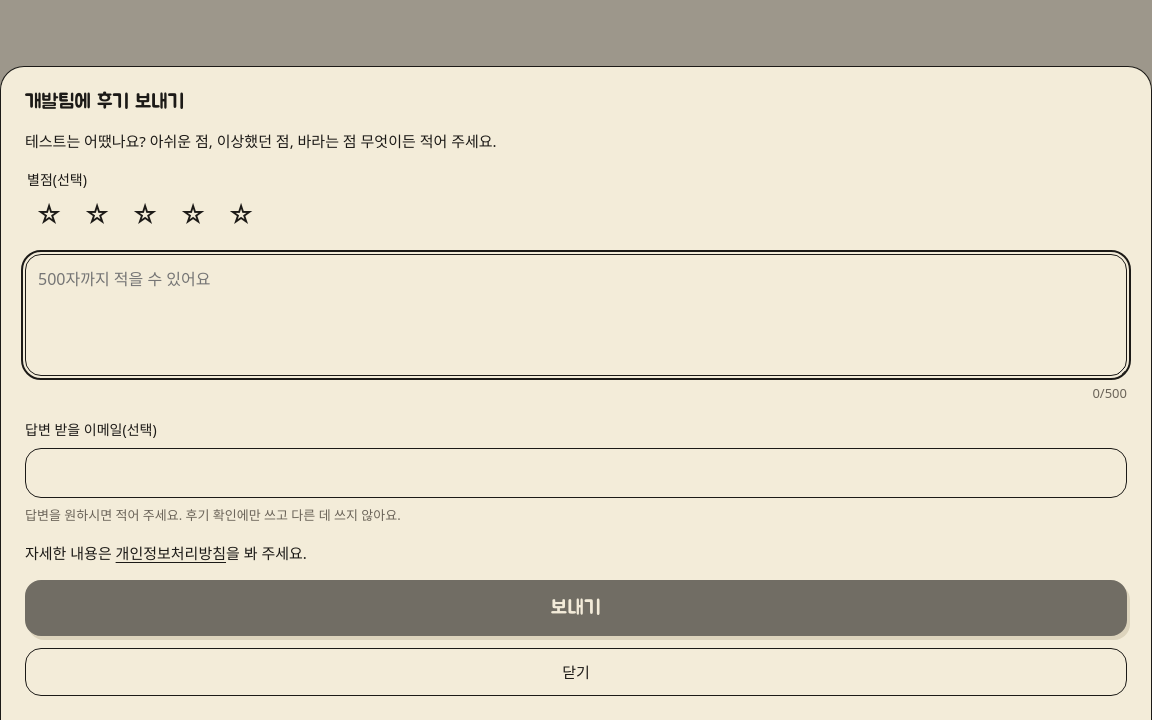
Scenario: FeedbackSheet — 실패 갈래 › 세션이 만료되면 다시 보낼 길을 주지 않는다 (401)
Type "좋아요" into the text box labelled "테스트는 어땠나요? 아쉬운 점, 이상했던 점, 바라는 점 무엇이든 적어 주세요." at (576, 314), box [25,254,1127,376]
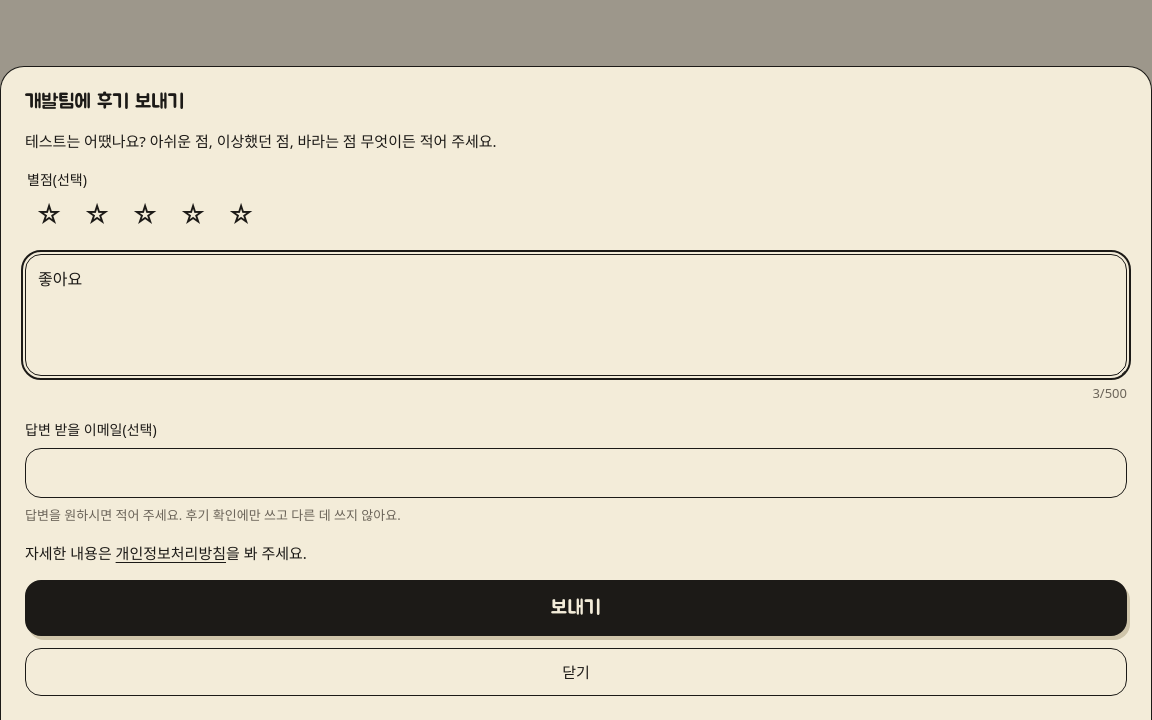
Click the button "보내기" at (576, 608), box [25,580,1127,636]
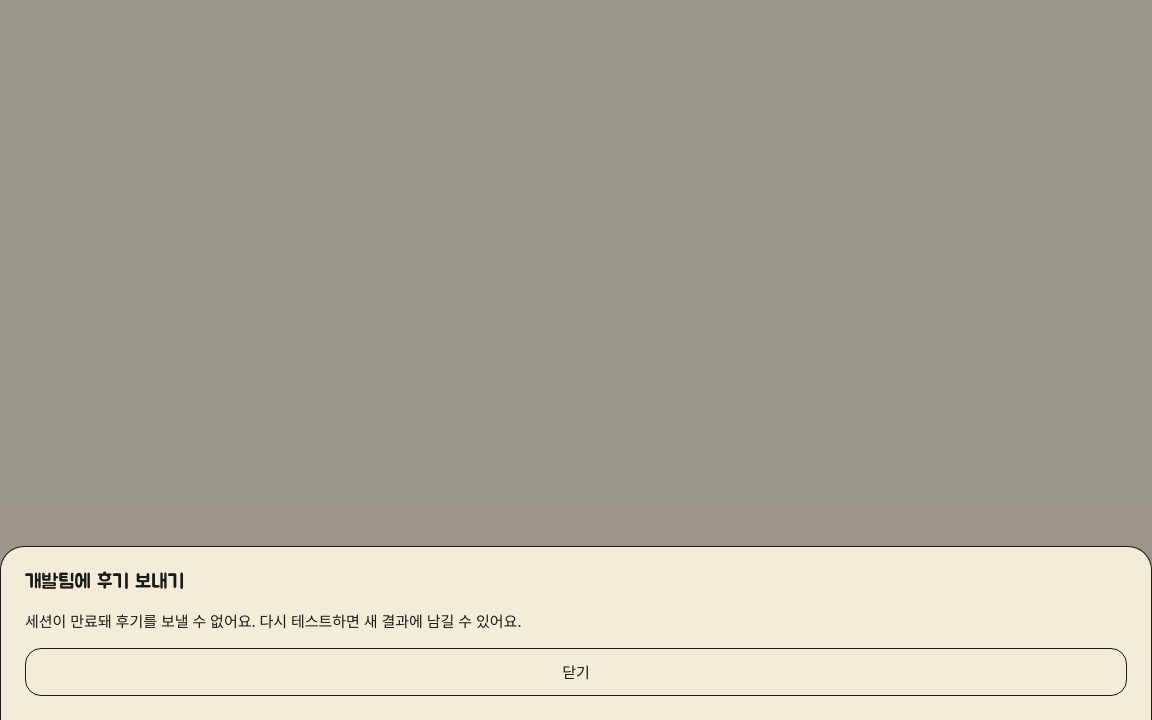
Check: the text "세션이 만료돼 후기를 보낼 수 없어요. 다시 테스트하면 새 결과에 남길 수 있어요." is shown, box [25,610,522,630]
